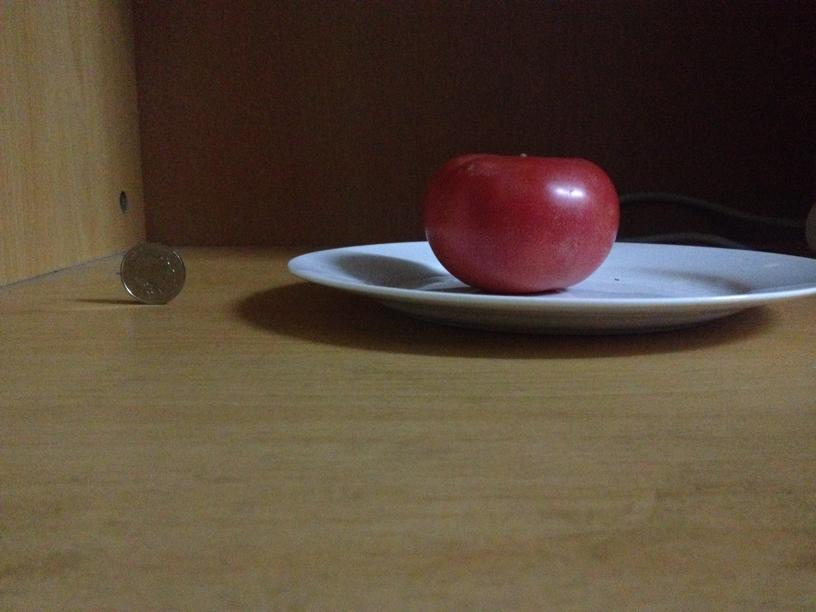coin: (115, 241, 186, 304)
tomato: (416, 151, 618, 292)
